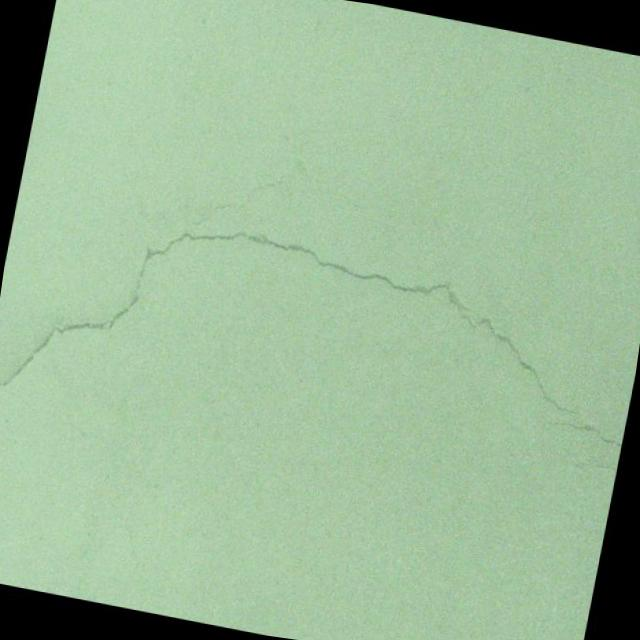crack: (0, 186, 607, 540), (286, 158, 458, 258), (210, 160, 290, 230), (546, 416, 625, 447), (577, 458, 618, 475)
